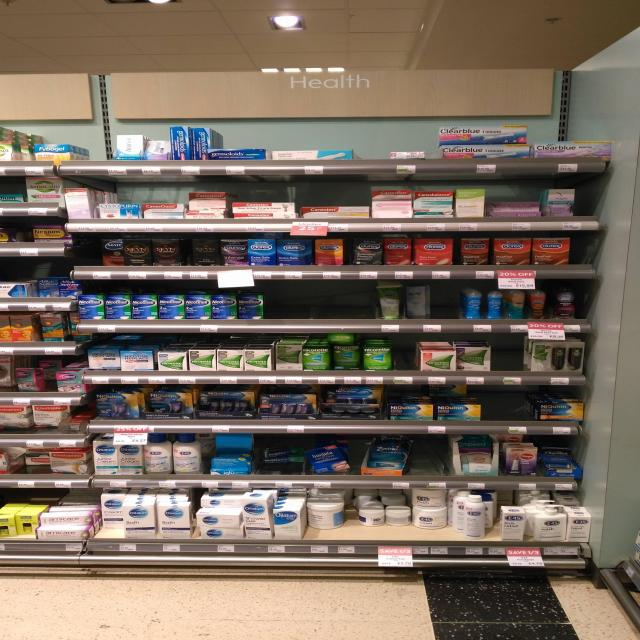void: (264, 280, 374, 316), (215, 130, 352, 150), (313, 527, 461, 541), (479, 388, 534, 420), (408, 442, 450, 478), (355, 131, 393, 164), (528, 126, 616, 140), (433, 281, 462, 318), (80, 138, 112, 162), (398, 133, 435, 151)
